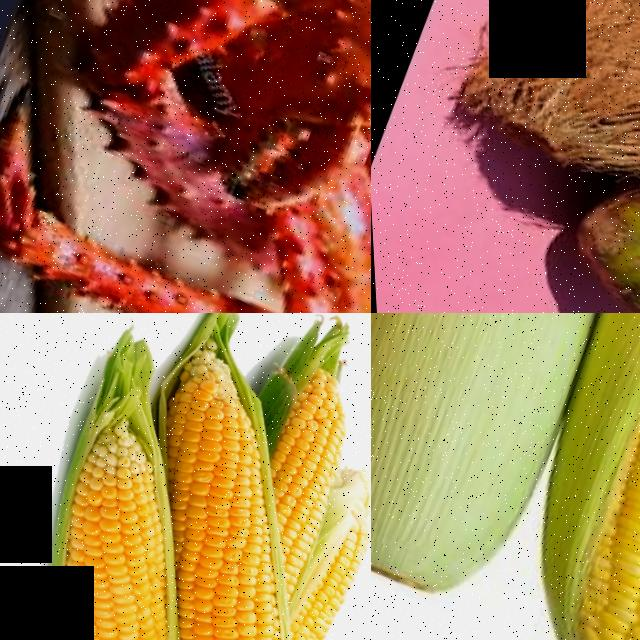coconut: (482, 0, 640, 172)
corn: (113, 343, 317, 566), (18, 420, 221, 640), (504, 313, 640, 640), (244, 364, 371, 527), (136, 542, 344, 640), (270, 481, 371, 640), (0, 590, 208, 640)
crab: (0, 0, 371, 313)
